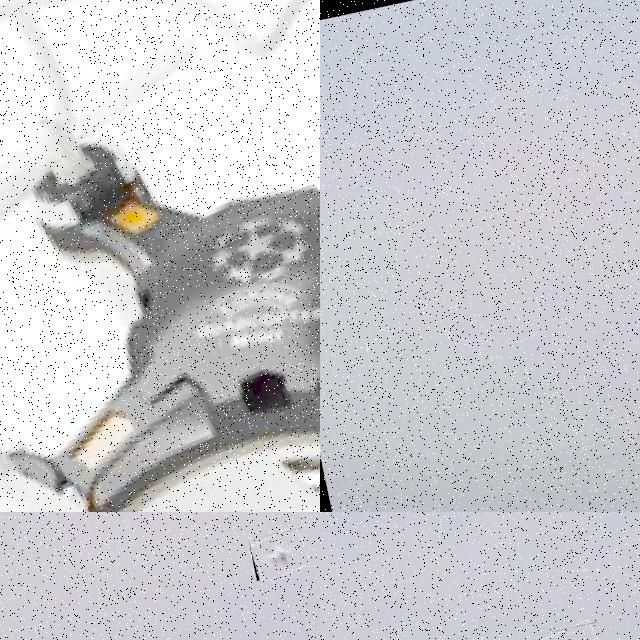0: (248, 527, 310, 581), (524, 621, 610, 640)
drone: (0, 0, 320, 512)
